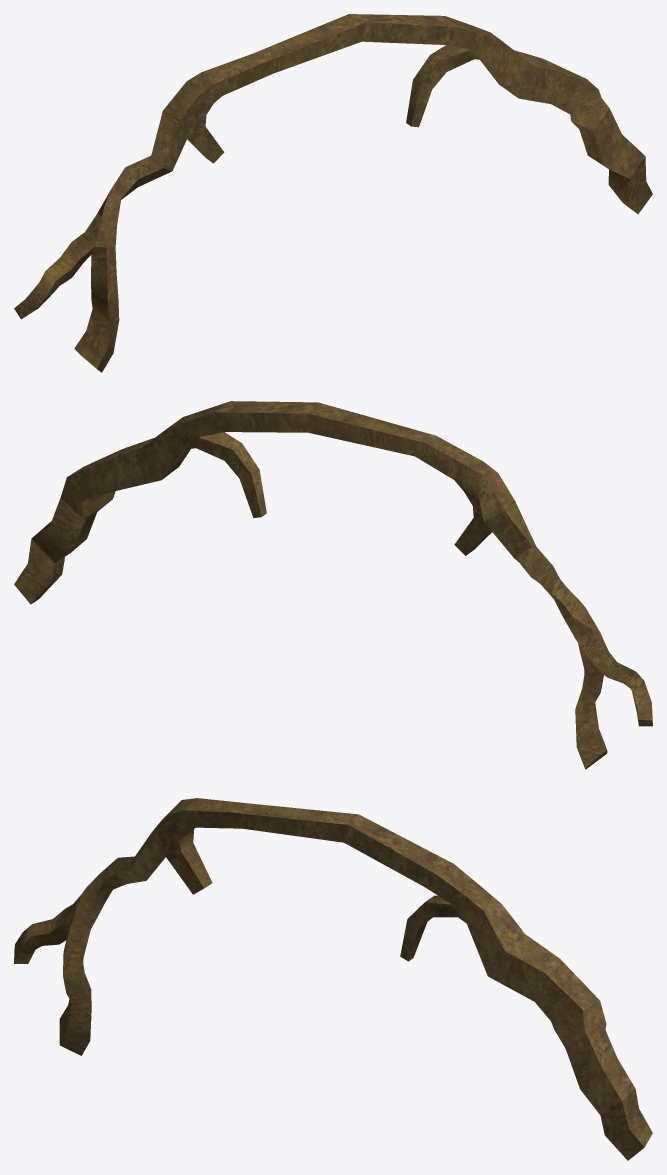
The model's file is mg_12__arch_2.fbx.
The picture shows the model from 3 angles, top to bottom: view 1: azimuth 30°, elevation 25°; view 2: azimuth 150°, elevation 25°; view 3: azimuth 330°, elevation 25°; orthographic projection. The views are drawn at different scales.
Parts seen in each view (by area): view 1: mg_12__arch_2; view 2: mg_12__arch_2; view 3: mg_12__arch_2.
Part boxes in pixels (<box>): mg_12__arch_2: <box>14,14,652,372</box>; mg_12__arch_2: <box>14,401,652,769</box>; mg_12__arch_2: <box>14,798,652,1160</box>.
Size of the model in its own units: 251 by 111 by 19.74.
